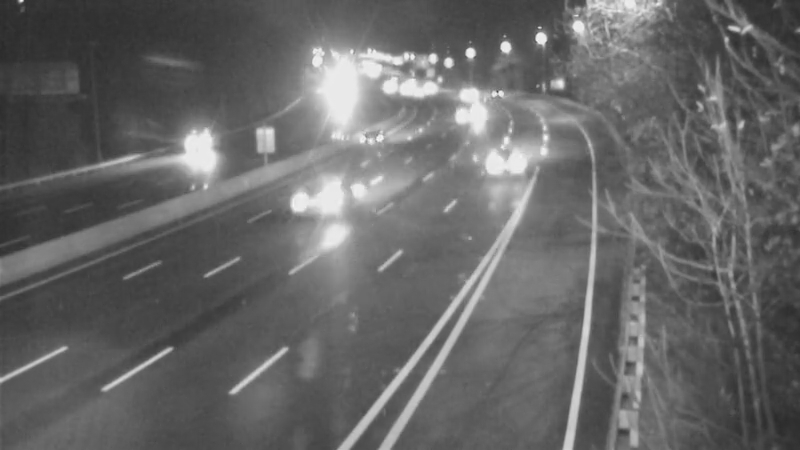vehicle: (473, 125, 553, 205), (278, 164, 358, 244), (160, 112, 240, 192), (472, 69, 522, 119), (447, 71, 497, 121), (440, 87, 490, 137), (358, 110, 408, 160)
